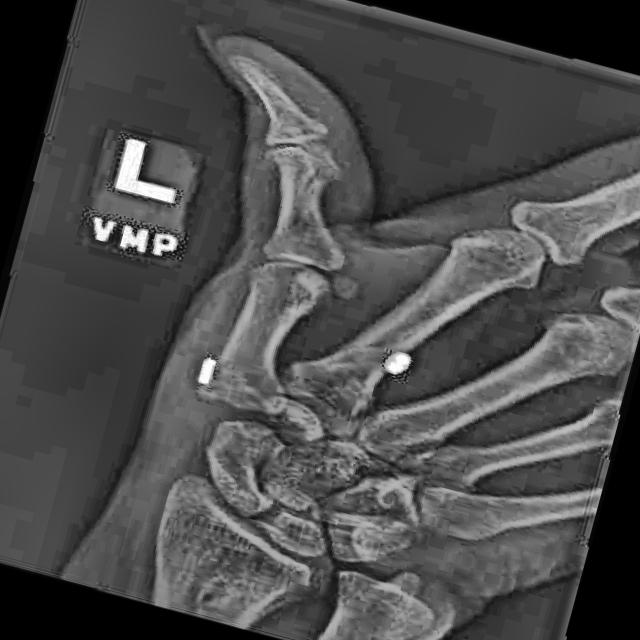fingers positive: (280, 128, 356, 210)
